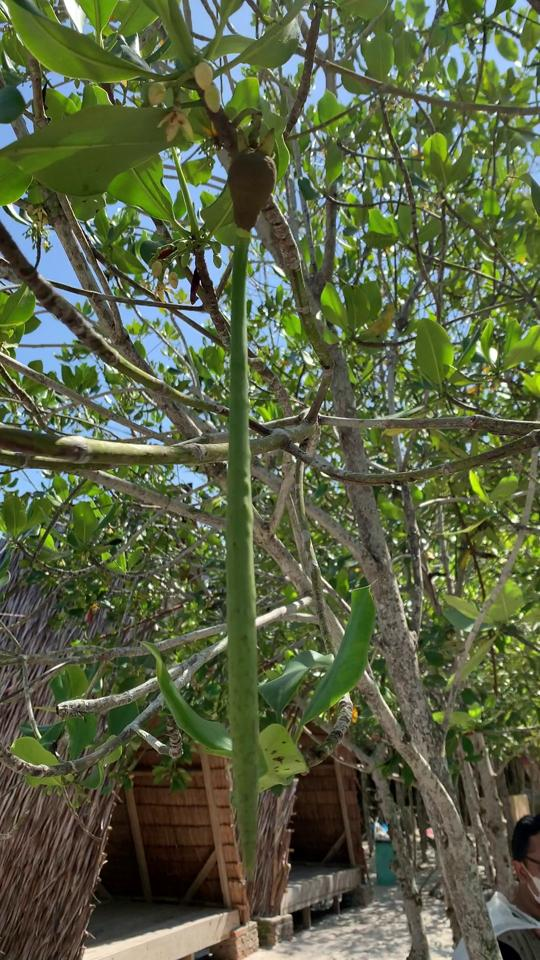setengah matang: (211, 129, 289, 903)
